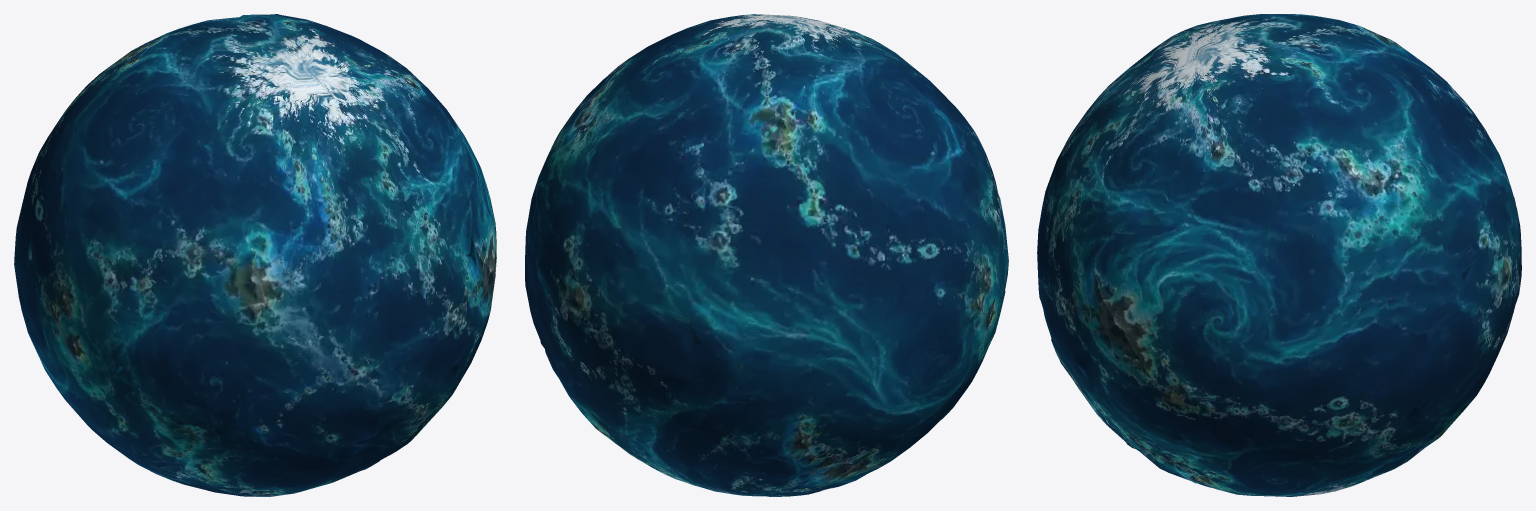
File: planet_6.glb
3 renders of one model, left to right at view 1: azimuth 30°, elevation 25°; view 2: azimuth 150°, elevation 25°; view 3: azimuth 270°, elevation 25°, orthographic.
Parts seen in each view (by area): view 1: Mesh_0.001; view 2: Mesh_0.001; view 3: Mesh_0.001.
Part boxes in pixels (box(x1,y1,x2,y2)): Mesh_0.001: box(14, 14, 496, 496); Mesh_0.001: box(525, 14, 1008, 496); Mesh_0.001: box(1037, 14, 1521, 496).
Bounding box in the file's own units: 1.9 × 1.9 × 1.9.
Materials: 1 (1 with a texture image).
